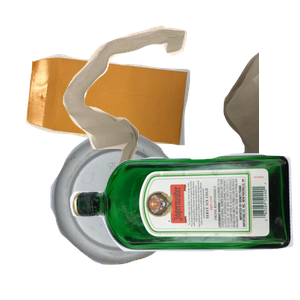glass: (67, 150, 300, 300)
paper: (23, 51, 206, 189)
plastic: (48, 132, 224, 300)
trash: (60, 23, 300, 203)
